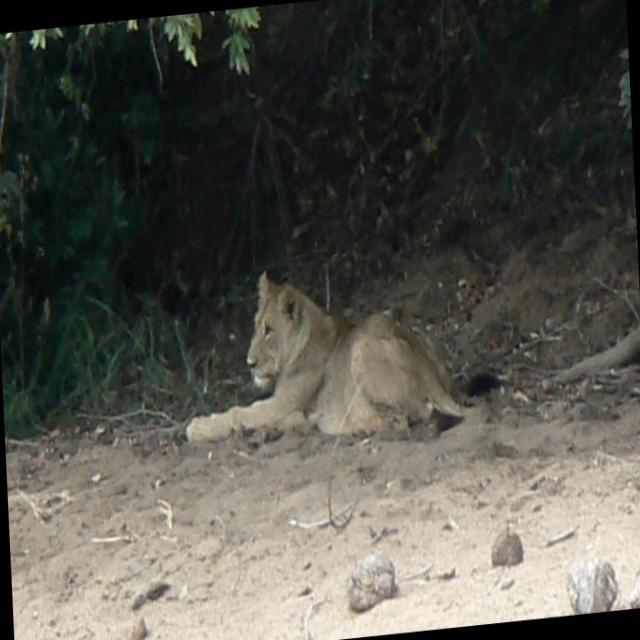Lion: (180, 247, 490, 452)
